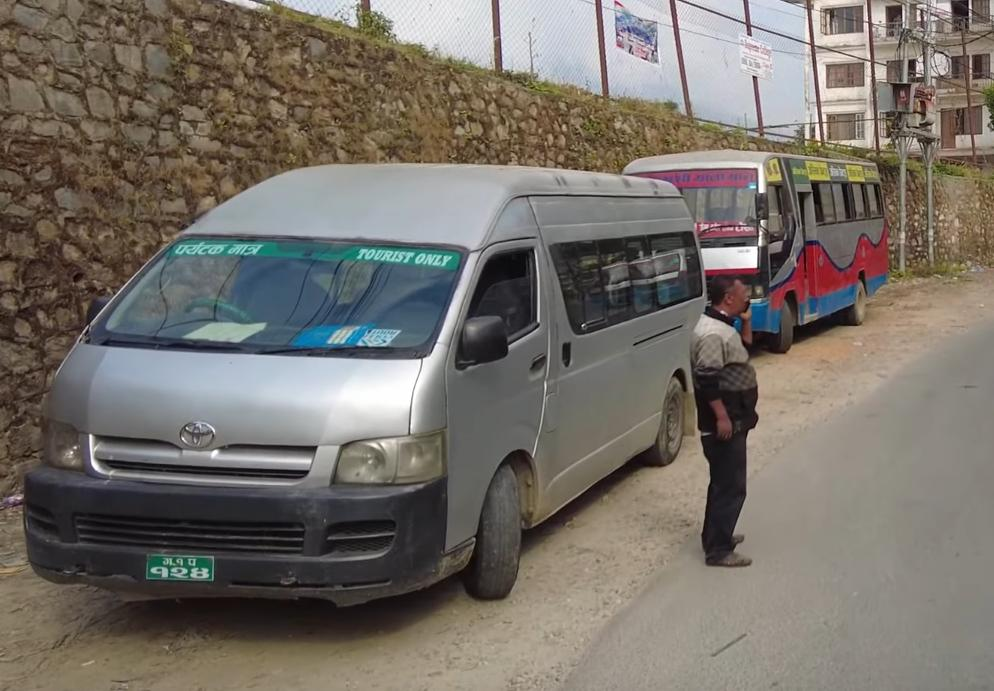bus: (616, 144, 898, 356)
micro_bus: (16, 153, 729, 632)
